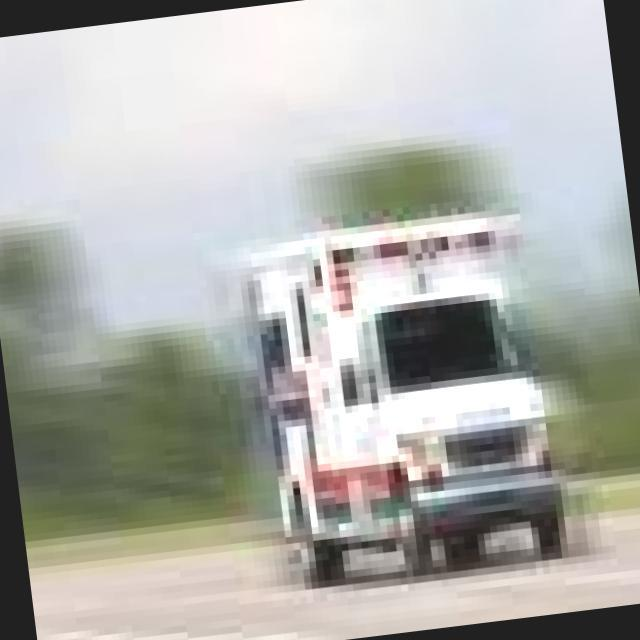emergency-vehicle: (149, 105, 640, 622)
